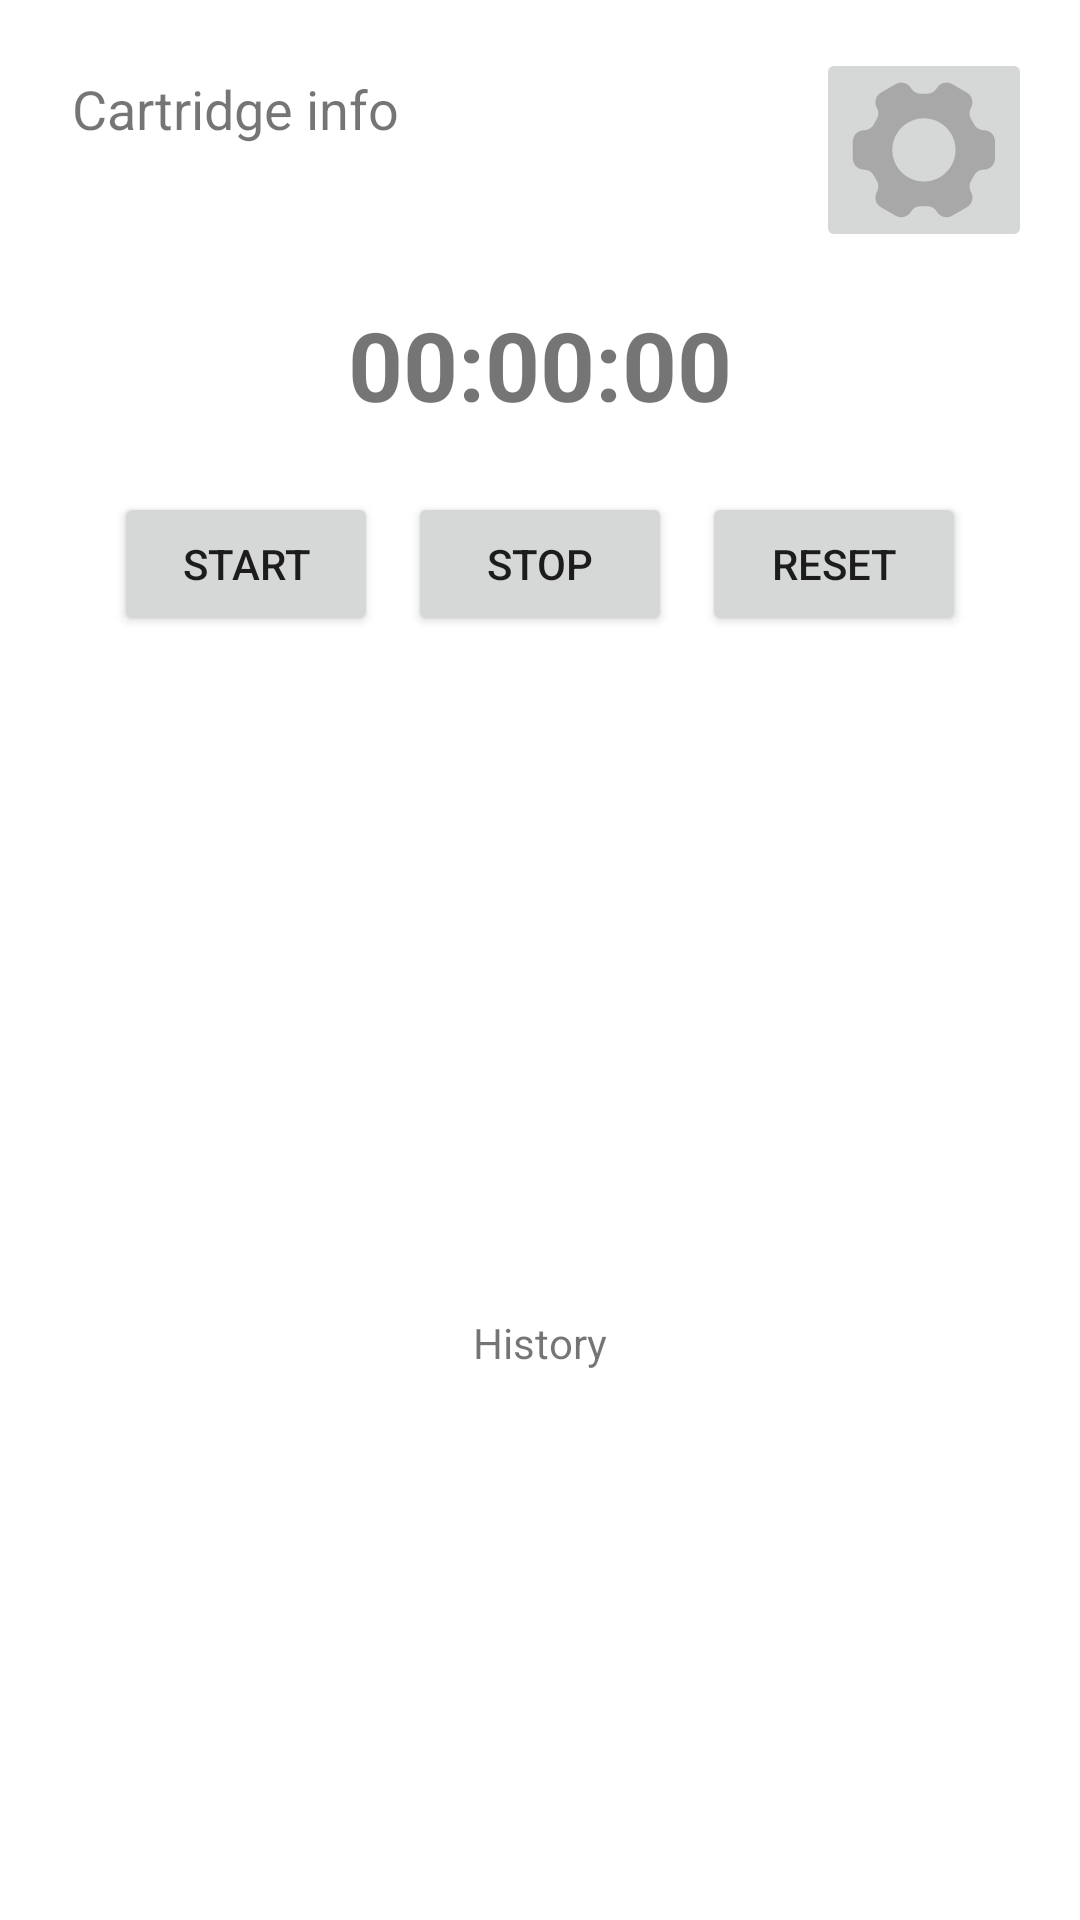

Icons on this 1080w x 1920h Android screen, each with its box as (x1,y1,x2,y2):
Settings: (828,66,1020,234)
